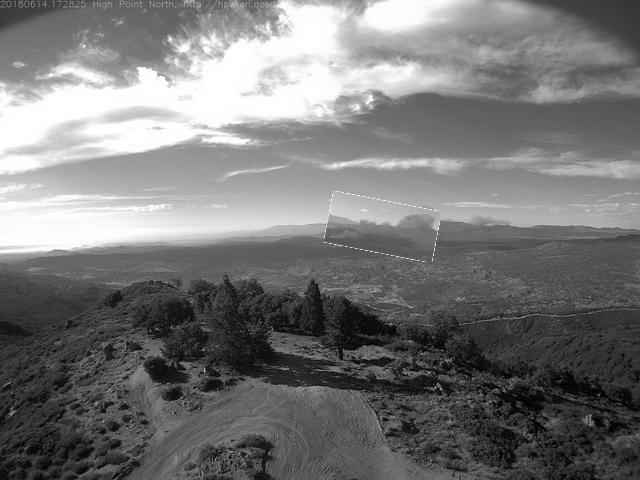smoke: (327, 197, 441, 259)
